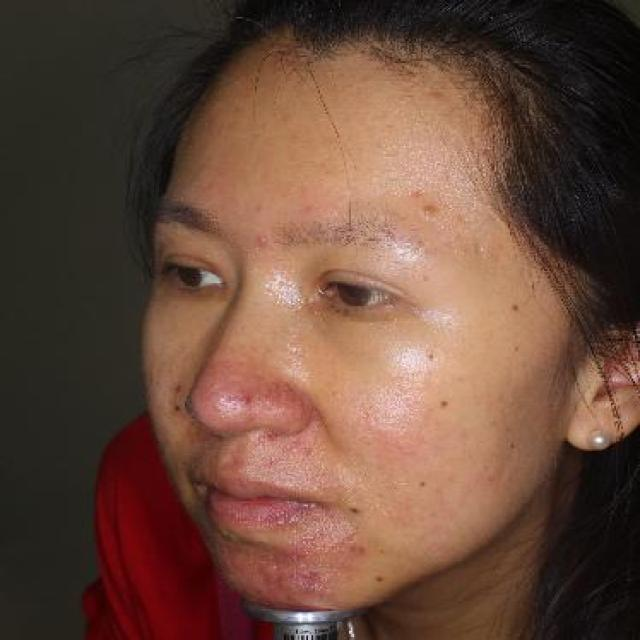blackhead: (420, 348, 446, 366)
nodules: (254, 557, 339, 600), (235, 389, 257, 411), (417, 202, 439, 219), (254, 231, 272, 249)
